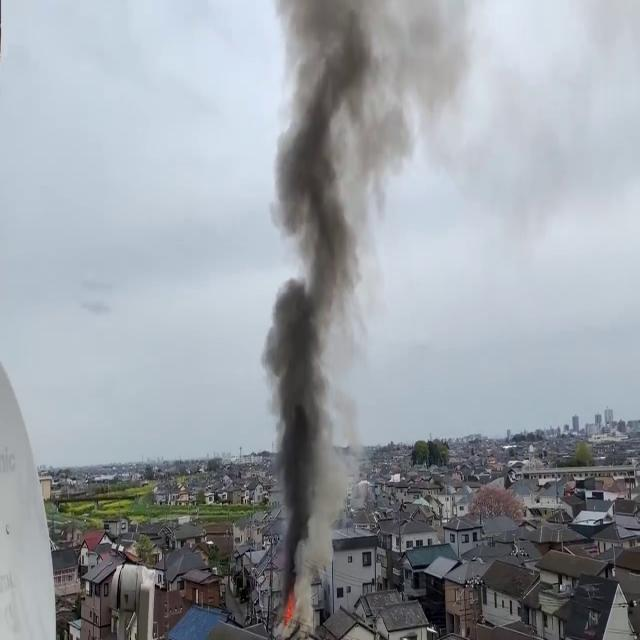Fire: (280, 587, 298, 633)
Smoke: (262, 0, 404, 590)
